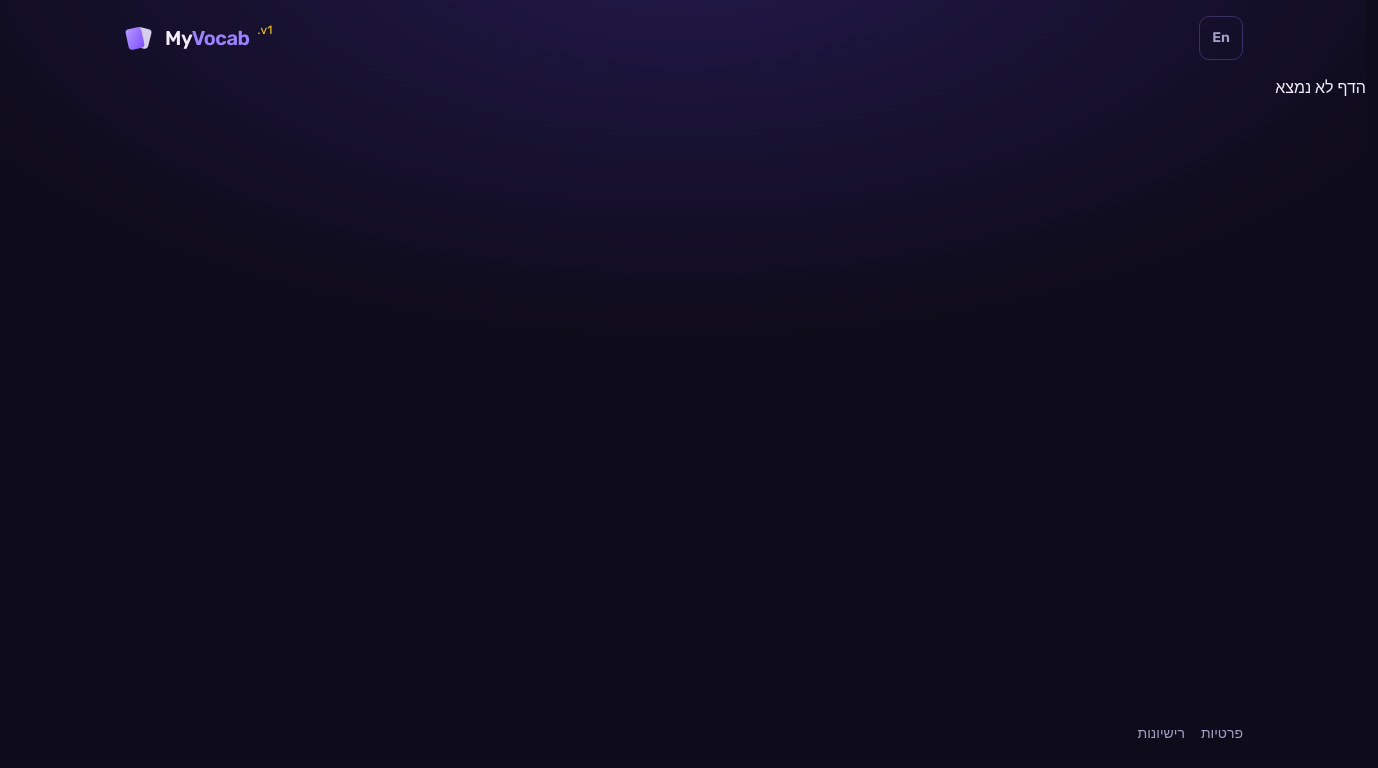
Test: UI language (D-080) › switches to English from the Home header and remembers it
Expected: the header named "English" is shown, top-left (123, 16), bottom-right (1243, 60)
Click the button named "English" at (1221, 38), box top-left (1199, 16), bottom-right (1243, 60)
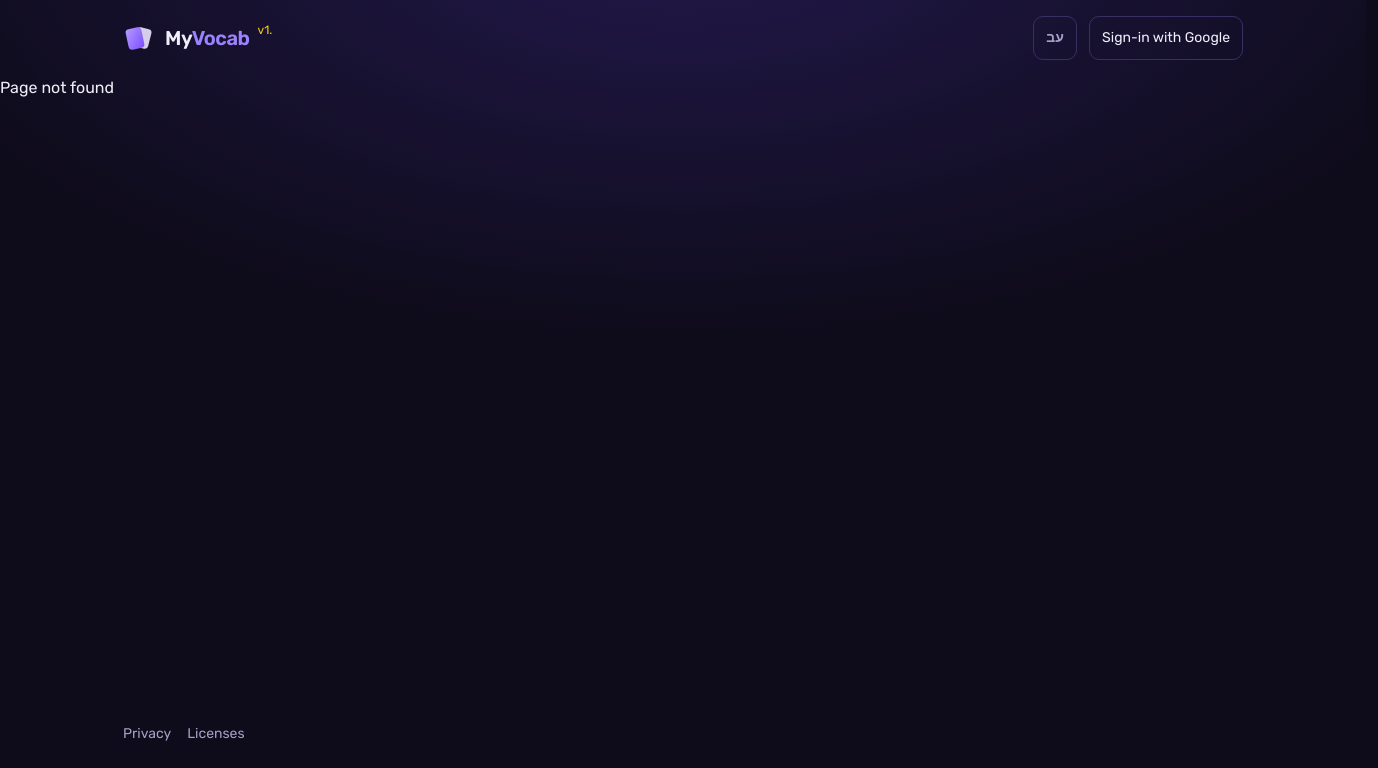
Result: the text "Page not found" is shown at top-left (0, 78), bottom-right (114, 97)
Result: the button named "עברית" reads "עב"
Click the button named "עברית" at (1055, 38), box top-left (1033, 16), bottom-right (1077, 60)
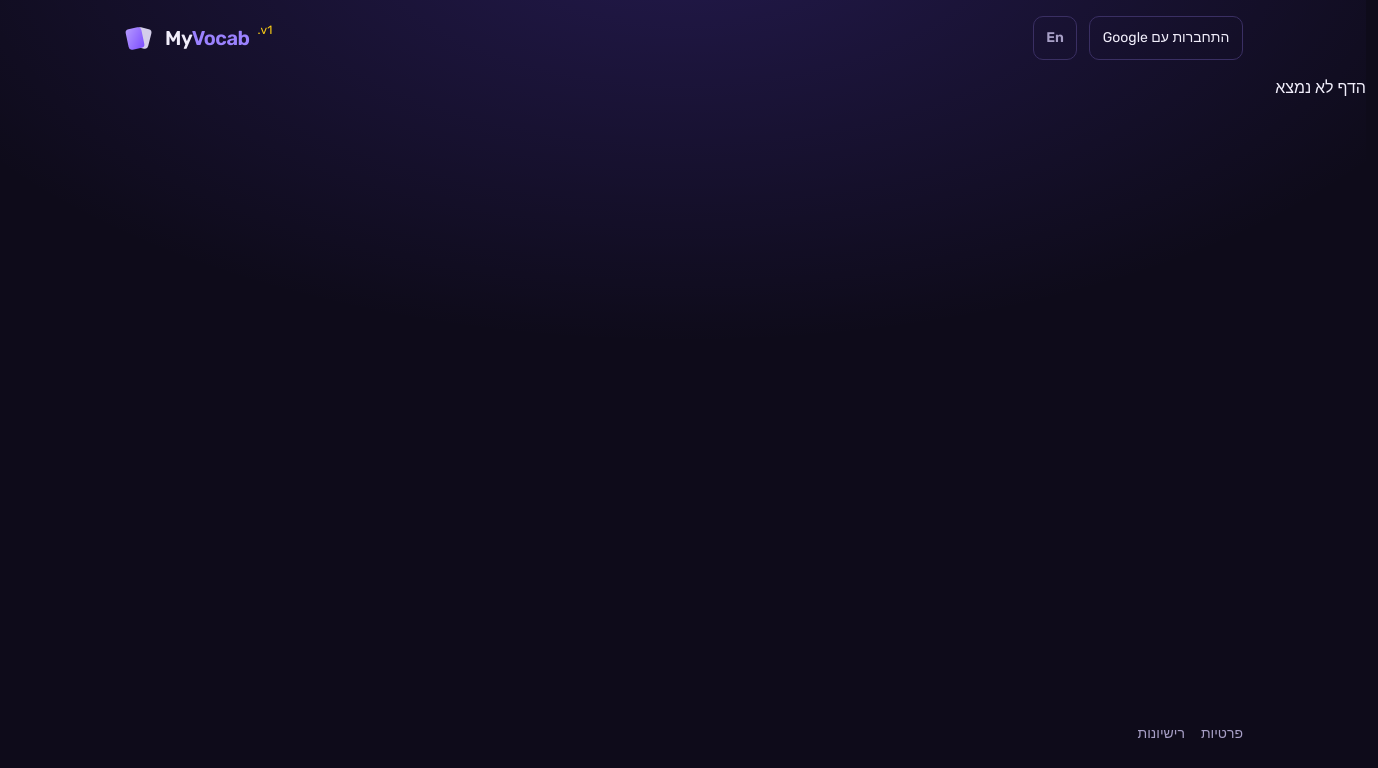
Result: the text "הדף לא נמצא" is shown at top-left (1275, 78), bottom-right (1366, 97)
